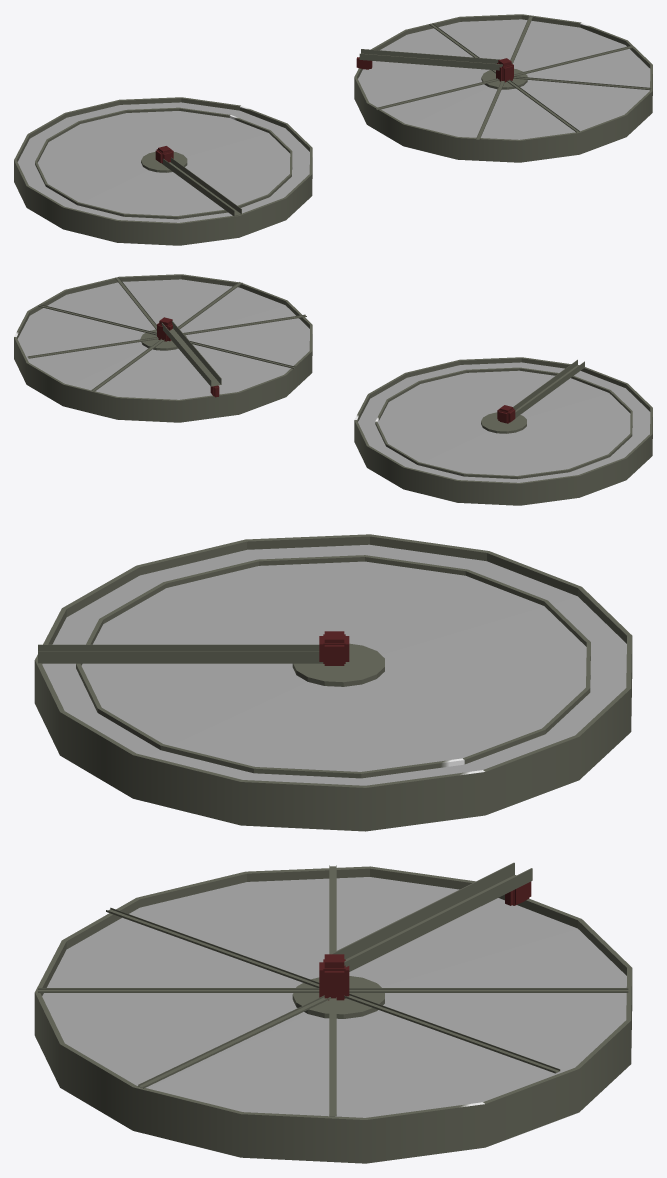
The model's file is sedimentaion.fbx.
The picture shows the model from 3 angles, top to bottom: view 1: azimuth 30°, elevation 25°; view 2: azimuth 150°, elevation 25°; view 3: azimuth 270°, elevation 25°; orthographic projection. The views are drawn at different scales.
Parts seen in each view (by area): view 1: water, tank_2; view 2: tank_2, water; view 3: water, tank_2.
Part boxes in pixels (left/top/right/bottom): water: left=354, top=14, right=652, bottom=162; tank_2: left=14, top=97, right=312, bottom=245; tank_2: left=354, top=357, right=652, bottom=505; water: left=14, top=274, right=312, bottom=422; water: left=34, top=862, right=632, bottom=1163; tank_2: left=34, top=534, right=632, bottom=831.
Bounding box in the file's own units: 28.84 × 2.96 × 12.43.
